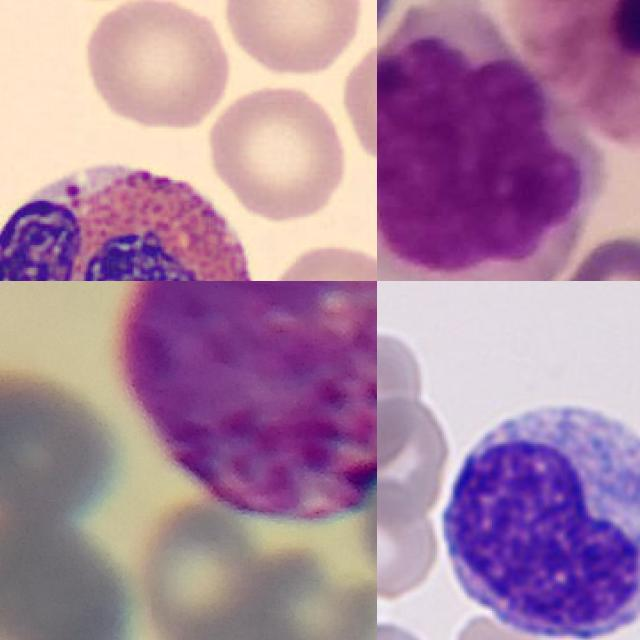Basophil: (123, 281, 377, 523)
Eosinophil: (0, 139, 272, 281)
Lymphocyte: (431, 388, 640, 640)
Monocyte: (377, 0, 602, 281)
Neutrophil: (509, 0, 640, 151)
RBC: (203, 82, 349, 223), (78, 0, 235, 130), (219, 0, 368, 79), (377, 394, 454, 524), (377, 323, 429, 477), (377, 483, 443, 604), (334, 25, 377, 173), (263, 238, 377, 281), (445, 609, 593, 640)
